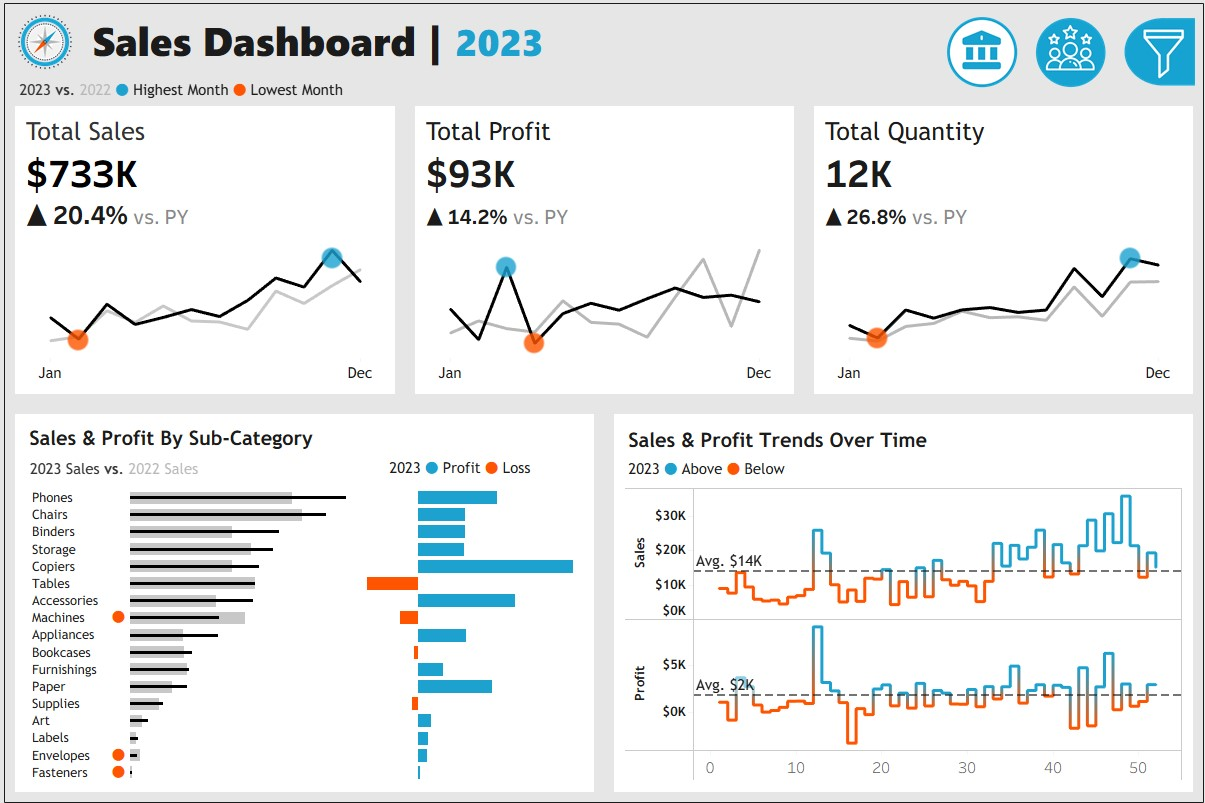

What the dashboard file says about the page in this screenshot:
{"tool":"tableau","page":{"name":"Sales Dashboard","canvas":[1200,800],"ordinal":1},"visuals":[{"type":"image","param":"Image/Icon - Logo.png","box":[1,6,80,65]},{"type":"text","box":[81,6,859,65]},{"type":"dashboard-object","box":[934,9,89,80]},{"type":"dashboard-object","box":[1023,9,88,80]},{"type":"dashboard-object","box":[1111,9,88,80]},{"type":"blank","box":[935,10,254,100]},{"type":"worksheet","title":"Legend KPI","mark":"Automatic","box":[1,71,1198,32]},{"type":"worksheet","title":"KPI Sales","mark":"Automatic","rows":["Calculation_839358425112530944"],"cols":["Order Date"],"box":[1,103,400,298]},{"type":"worksheet","title":"KPI Profit","mark":"Automatic","rows":["Min/Max Sales (copy)_839358425113116673"],"cols":["Order Date"],"box":[401,103,399,298]},{"type":"worksheet","title":"KPI Quantity","mark":"Automatic","rows":["Min/Max Sales (copy)_839358425124913165"],"cols":["Order Date"],"box":[800,103,399,298]},{"type":"text","box":[935,110,254,70]},{"type":"blank","box":[935,180,254,2]},{"type":"parameter","param":"[Parameters].[Parameter 1]","box":[935,182,254,82]},{"type":"blank","box":[935,264,254,20]},{"type":"text","box":[935,284,254,54]},{"type":"filter","title":"SubCategory Comparison","param":"[federated.048k0v505h3e8l141cuxh0hj0k7t].[none:Category:nk]","box":[935,338,254,70]},{"type":"filter","title":"SubCategory Comparison","param":"[federated.048k0v505h3e8l141cuxh0hj0k7t].[none:Sub-Category:nk]","box":[935,408,254,70]},{"type":"text","box":[18,418,565,32]},{"type":"text","box":[617,418,565,35]},{"type":"worksheet","title":"Legend SubCategory","mark":"Automatic","box":[18,450,360,32]},{"type":"text","box":[378,450,205,32]},{"type":"text","box":[617,453,565,28]},{"type":"blank","box":[935,478,254,30]},{"type":"worksheet","title":"Weekly Trends","mark":"Line","rows":["Calculation_511721552195964928","CY Sales (copy)_511721552207069188"],"cols":["Order Date"],"box":[617,481,565,301]},{"type":"worksheet","title":"SubCategory Comparison","mark":"Bar","rows":["Sub-Category","Calculation_659214440209342464"],"cols":["CY Sales (copy)_511721552196362241","Calculation_511721552195964928","CY Sales (copy)_511721552207069188"],"box":[18,482,565,299.9]},{"type":"text","box":[935,508,254,54]},{"type":"filter","title":"SubCategory Comparison","param":"[federated.048k0v505h3e8l141cuxh0hj0k7t].[none:Region:nk]","box":[935,562,254,70]},{"type":"filter","title":"SubCategory Comparison","param":"[federated.048k0v505h3e8l141cuxh0hj0k7t].[none:State:nk]","box":[935,632,254,70]},{"type":"filter","title":"SubCategory Comparison","param":"[federated.048k0v505h3e8l141cuxh0hj0k7t].[none:City:nk]","box":[935,702,254,70]}]}

Visuals, with their boxes in screenshot pixels (x1, y1, x2, y2), scaled from the page's 1200x800 canvas onto the 1205x803 screenshot:
image: pyautogui.locateOnScreen(1, 6, 81, 71)
text: pyautogui.locateOnScreen(81, 6, 944, 71)
dashboard-object: pyautogui.locateOnScreen(938, 9, 1027, 89)
dashboard-object: pyautogui.locateOnScreen(1027, 9, 1116, 89)
dashboard-object: pyautogui.locateOnScreen(1116, 9, 1204, 89)
blank: pyautogui.locateOnScreen(939, 10, 1194, 110)
"Legend KPI" worksheet: pyautogui.locateOnScreen(1, 71, 1204, 103)
"KPI Sales" worksheet: pyautogui.locateOnScreen(1, 103, 403, 403)
"KPI Profit" worksheet: pyautogui.locateOnScreen(403, 103, 803, 403)
"KPI Quantity" worksheet: pyautogui.locateOnScreen(803, 103, 1204, 403)
text: pyautogui.locateOnScreen(939, 110, 1194, 181)
blank: pyautogui.locateOnScreen(939, 181, 1194, 183)
parameter: pyautogui.locateOnScreen(939, 183, 1194, 265)
blank: pyautogui.locateOnScreen(939, 265, 1194, 285)
text: pyautogui.locateOnScreen(939, 285, 1194, 339)
"SubCategory Comparison" filter: pyautogui.locateOnScreen(939, 339, 1194, 410)
"SubCategory Comparison" filter: pyautogui.locateOnScreen(939, 410, 1194, 480)
text: pyautogui.locateOnScreen(18, 420, 585, 452)
text: pyautogui.locateOnScreen(620, 420, 1187, 455)
"Legend SubCategory" worksheet: pyautogui.locateOnScreen(18, 452, 380, 484)
text: pyautogui.locateOnScreen(380, 452, 585, 484)
text: pyautogui.locateOnScreen(620, 455, 1187, 483)
blank: pyautogui.locateOnScreen(939, 480, 1194, 510)
"Weekly Trends" worksheet (Line marks): pyautogui.locateOnScreen(620, 483, 1187, 785)
"SubCategory Comparison" worksheet (Bar marks): pyautogui.locateOnScreen(18, 484, 585, 785)
text: pyautogui.locateOnScreen(939, 510, 1194, 564)
"SubCategory Comparison" filter: pyautogui.locateOnScreen(939, 564, 1194, 634)
"SubCategory Comparison" filter: pyautogui.locateOnScreen(939, 634, 1194, 705)
"SubCategory Comparison" filter: pyautogui.locateOnScreen(939, 705, 1194, 775)
